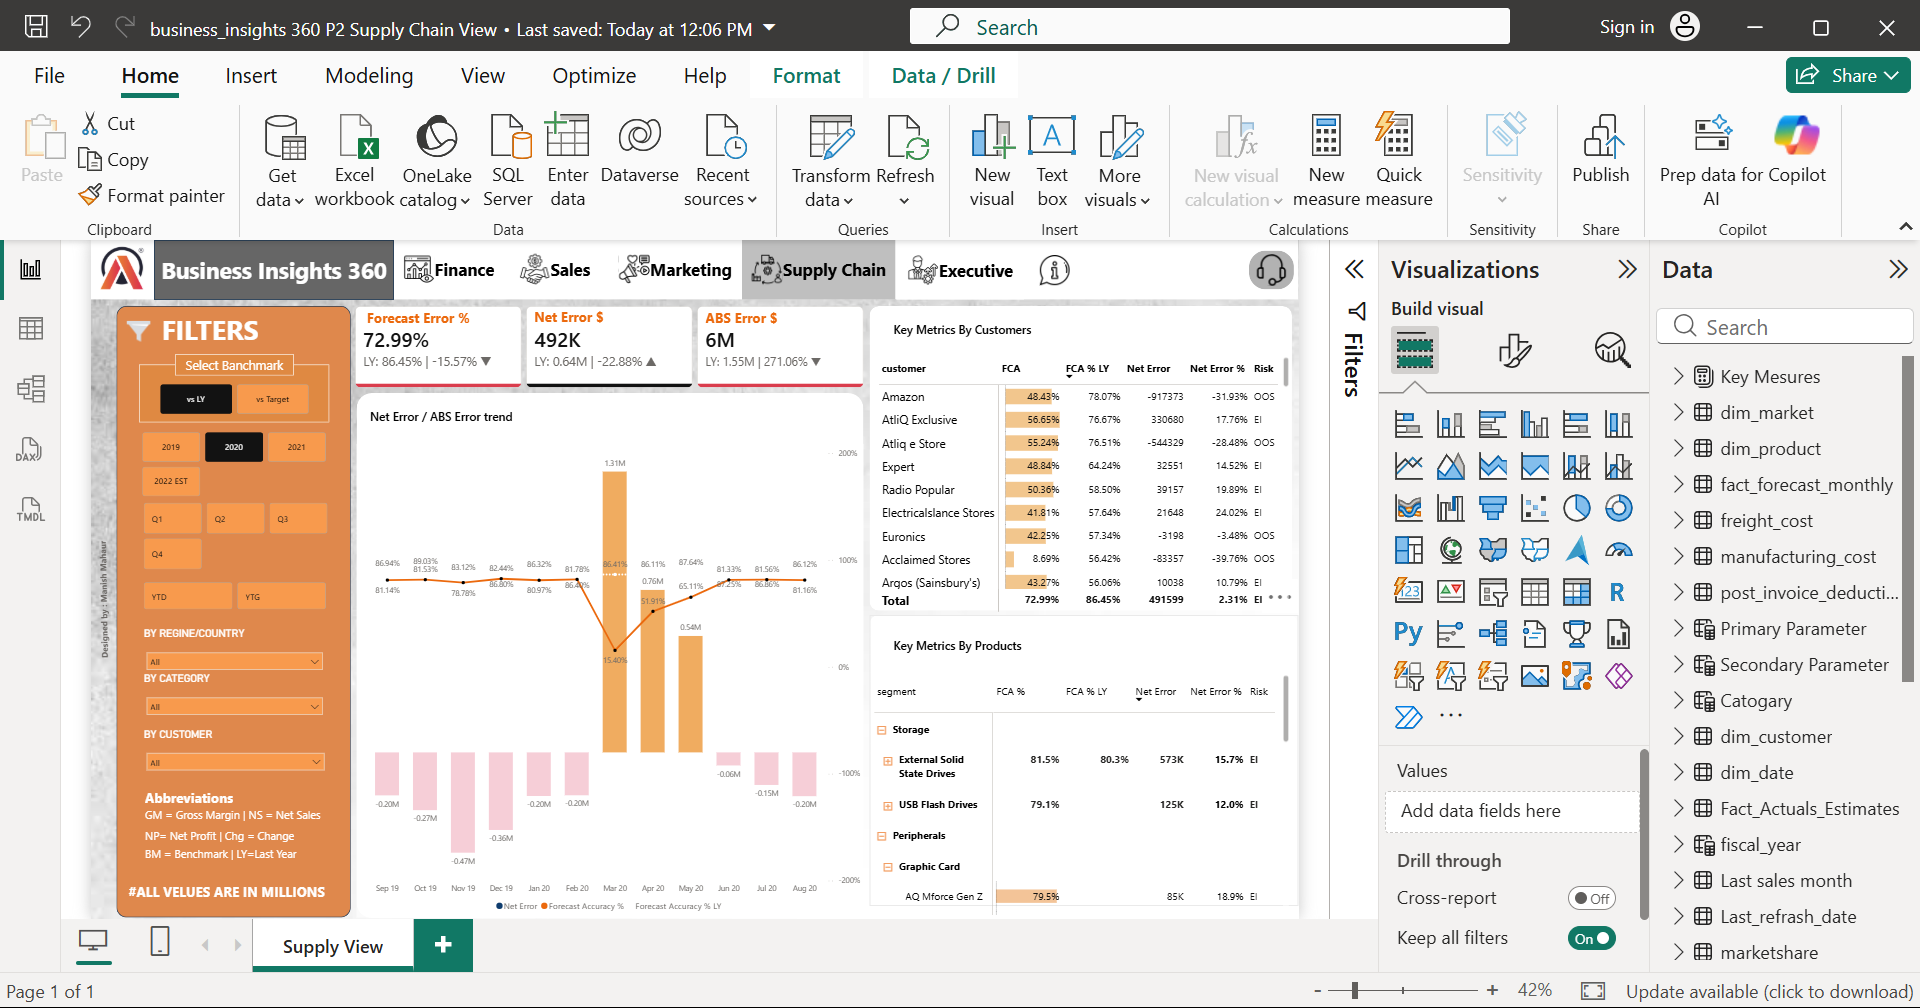

What the dashboard file says about the page in this screenshot:
{"tool":"powerbi","page":{"name":"Supply View ","canvas":[1920,1080],"ordinal":0},"visuals":[{"type":"shape","box":[0,0,1920,94.5],"z":0},{"type":"shape","box":[0.3,0,264,24],"z":1000},{"type":"shape","box":[10,10,237.5,33.8],"z":2000},{"type":"image","box":[0,9.5,100.2,69.2],"z":3000},{"type":"shape","box":[40,105,372.5,972.5],"z":4000},{"type":"actionButton","box":[0,426.3,39.8,289.5],"z":5000},{"type":"actionButton","box":[486.7,0,164.6,93.1],"z":6000},{"type":"actionButton","box":[651.4,0,171.8,93.1],"z":7000},{"type":"actionButton","box":[823.1,0,212.3,93.1],"z":8000},{"type":"actionButton","box":[1036.2,0,243.8,94.5],"z":9000},{"type":"actionButton","box":[1281.2,0,202.8,95.4],"z":10000},{"type":"actionButton","box":[1841.9,16.7,71.6,62],"z":11000},{"type":"image","box":[1507.9,23.9,50.1,47.7],"z":12000},{"type":"shape","box":[100.2,0,381.7,95.4],"z":13000},{"type":"advancedSlicerVisual","fields":{"Values":["fiscal_year.FY Desc"]},"box":[76.3,300.6,303,112.1],"z":14000},{"type":"advancedSlicerVisual","fields":{"Values":["dim_date.Quarter"]},"box":[78.2,412.2,302.4,117.1],"z":15000},{"type":"advancedSlicerVisual","fields":{"Values":["dim_date.YTD_YTG"]},"box":[78.2,539,300,53.7],"z":16000},{"type":"slicer","title":"BY REGINE/COUNTRY","fields":{"Values":[" dim_market.region"," dim_market.market"]},"box":[78.3,615,300,82.5],"z":17000},{"type":"slicer","title":"BY CATEGORY","fields":{"Values":[" dim_product.segment"," dim_product.category"," dim_product.product"]},"box":[78.3,687.5,300,87.5],"z":18000},{"type":"slicer","title":"BY CUSTOMER","fields":{"Values":["dim_customer.customer"]},"box":[78.3,775,302.5,80],"z":19000},{"type":"image","box":[44.2,118.4,60.5,50],"z":20000},{"type":"textbox","box":[106.7,106.7,192.1,78.9],"z":21000},{"type":"shape","box":[75.8,197.4,302.6,92.1],"z":22000},{"type":"shape","box":[133.7,181.4,189,34.2],"z":23000},{"type":"advancedSlicerVisual","fields":{"Values":["Set BM.Benchmark"]},"box":[104.7,223.7,247.4,57.9],"z":24000},{"type":"shape","box":[85.8,897.5,292.5,32.5],"z":25000},{"type":"shape","box":[85.8,865,285,40],"z":26000},{"type":"shape","box":[85.8,930,285,32.5],"z":27000},{"type":"shape","box":[85.8,962.5,285,30],"z":28000},{"type":"shape","box":[60.8,1017.5,340,40],"z":29000},{"type":"shape","box":[422.4,242.4,806.4,835.2],"z":30000},{"type":"cardVisual","fields":{"Data":["Key Mesures.Forecast Accuracy %","Key Mesures.Net Error","Key Mesures.ABS Error"]},"box":[403.2,88.8,844.8,163.2],"z":33000},{"type":"shape","box":[422.4,108,196.8,31.2],"z":34000},{"type":"shape","box":[693.6,108,132,28.8],"z":35000},{"type":"shape","box":[962.4,108,146.4,31.2],"z":36000},{"type":"shape","box":[1238.4,105.6,672,484.8],"z":37000},{"type":"shape","box":[1238.4,597.6,681.6,460.8],"z":38000},{"type":"pivotTable","fields":{"Rows":["dim_customer.customer"],"Values":["Key Mesures.Forecast Accuracy %","Key Mesures.Forecast Accuracy % LY","Key Mesures.Net Error","Key Mesures.Net Error %","Key Mesures.Risk"]},"box":[1248,182.4,662.4,415.2],"z":39000},{"type":"lineClusteredColumnComboChart","fields":{"Category":["dim_date.Month"],"Y":["Key Mesures.Net Error"],"Y2":["Key Mesures.Forecast Accuracy %","Key Mesures.Forecast Accuracy % LY"]},"box":[422.4,324,806.4,753.6],"z":40000},{"type":"pivotTable","fields":{"Rows":[" dim_product.segment"," dim_product.category"," dim_product.product"],"Values":["Key Mesures.Forecast Accuracy %","Key Mesures.Forecast Accuracy % LY","Key Mesures.Net Error","Key Mesures.Net Error %","Key Mesures.Risk"]},"box":[1240.8,686.4,669.6,391.2],"z":41000},{"type":"shape","box":[1276.8,628.8,417.5,30.3],"z":42000},{"type":"shape","box":[1276.8,127.2,417.5,30.3],"z":43000},{"type":"shape","box":[444,264,417.5,30.3],"z":44000}]}

Visuals, with their boxes on the page's 1920x1080 design canvas (x1, y1, x2, y2). These are canvas units, not pixel positions in the 1920x1008 screenshot, which may show the page scaled, cropped or inside an application window:
shape: <region>0, 0, 1920, 94</region>
shape: <region>0, 0, 264, 24</region>
shape: <region>10, 10, 248, 44</region>
image: <region>0, 10, 100, 79</region>
shape: <region>40, 105, 412, 1078</region>
actionButton: <region>0, 426, 40, 716</region>
actionButton: <region>487, 0, 651, 93</region>
actionButton: <region>651, 0, 823, 93</region>
actionButton: <region>823, 0, 1035, 93</region>
actionButton: <region>1036, 0, 1280, 94</region>
actionButton: <region>1281, 0, 1484, 95</region>
actionButton: <region>1842, 17, 1914, 79</region>
image: <region>1508, 24, 1558, 72</region>
shape: <region>100, 0, 482, 95</region>
advancedSlicerVisual - fiscal_year.FY Desc: <region>76, 301, 379, 413</region>
advancedSlicerVisual - dim_date.Quarter: <region>78, 412, 381, 529</region>
advancedSlicerVisual - dim_date.YTD_YTG: <region>78, 539, 378, 593</region>
"BY REGINE/COUNTRY" slicer: <region>78, 615, 378, 698</region>
"BY CATEGORY" slicer: <region>78, 688, 378, 775</region>
"BY CUSTOMER" slicer: <region>78, 775, 381, 855</region>
image: <region>44, 118, 105, 168</region>
textbox: <region>107, 107, 299, 186</region>
shape: <region>76, 197, 378, 290</region>
shape: <region>134, 181, 323, 216</region>
advancedSlicerVisual - Set BM.Benchmark: <region>105, 224, 352, 282</region>
shape: <region>86, 898, 378, 930</region>
shape: <region>86, 865, 371, 905</region>
shape: <region>86, 930, 371, 962</region>
shape: <region>86, 962, 371, 992</region>
shape: <region>61, 1018, 401, 1058</region>
shape: <region>422, 242, 1229, 1078</region>
cardVisual - Key Mesures.Forecast Accuracy % x Key Mesures.Net Error: <region>403, 89, 1248, 252</region>
shape: <region>422, 108, 619, 139</region>
shape: <region>694, 108, 826, 137</region>
shape: <region>962, 108, 1109, 139</region>
shape: <region>1238, 106, 1910, 590</region>
shape: <region>1238, 598, 1920, 1058</region>
pivotTable - dim_customer.customer x Key Mesures.Forecast Accuracy %: <region>1248, 182, 1910, 598</region>
lineClusteredColumnComboChart - dim_date.Month x Key Mesures.Net Error: <region>422, 324, 1229, 1078</region>
pivotTable -  dim_product.segment x  dim_product.category: <region>1241, 686, 1910, 1078</region>
shape: <region>1277, 629, 1694, 659</region>
shape: <region>1277, 127, 1694, 158</region>
shape: <region>444, 264, 862, 294</region>
